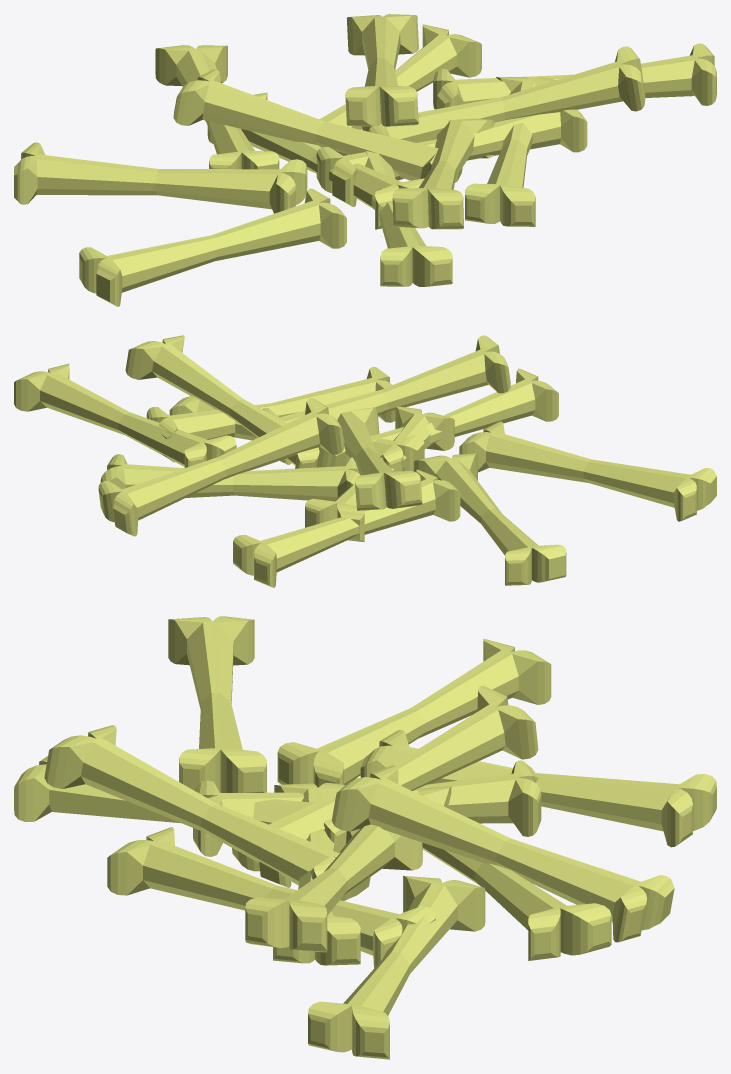
File: Bones2.fbx
3 renders of one model, top to bottom at view 1: azimuth 30°, elevation 25°; view 2: azimuth 150°, elevation 25°; view 3: azimuth 270°, elevation 25°, orthographic. The views are drawn at different scales.
Parts seen in each view (by area): view 1: Cube.110; view 2: Cube.110; view 3: Cube.110.
Part boxes in pixels (left/top/right/bottom): Cube.110: left=14, top=14, right=716, bottom=306; Cube.110: left=14, top=335, right=716, bottom=587; Cube.110: left=14, top=616, right=716, bottom=1059.
Bounding box in the file's own units: 454 × 47.41 × 329.
